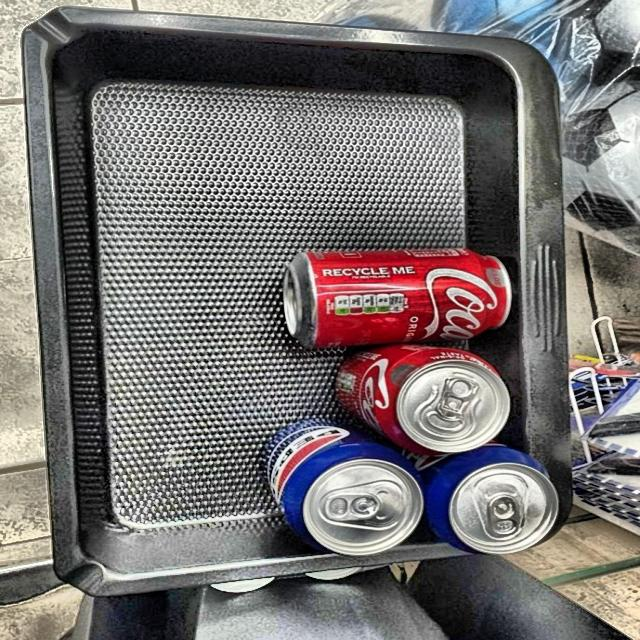coke-can: (288, 248, 513, 340), (344, 344, 508, 447)
pepsi-can: (276, 422, 411, 556), (422, 447, 552, 558)
